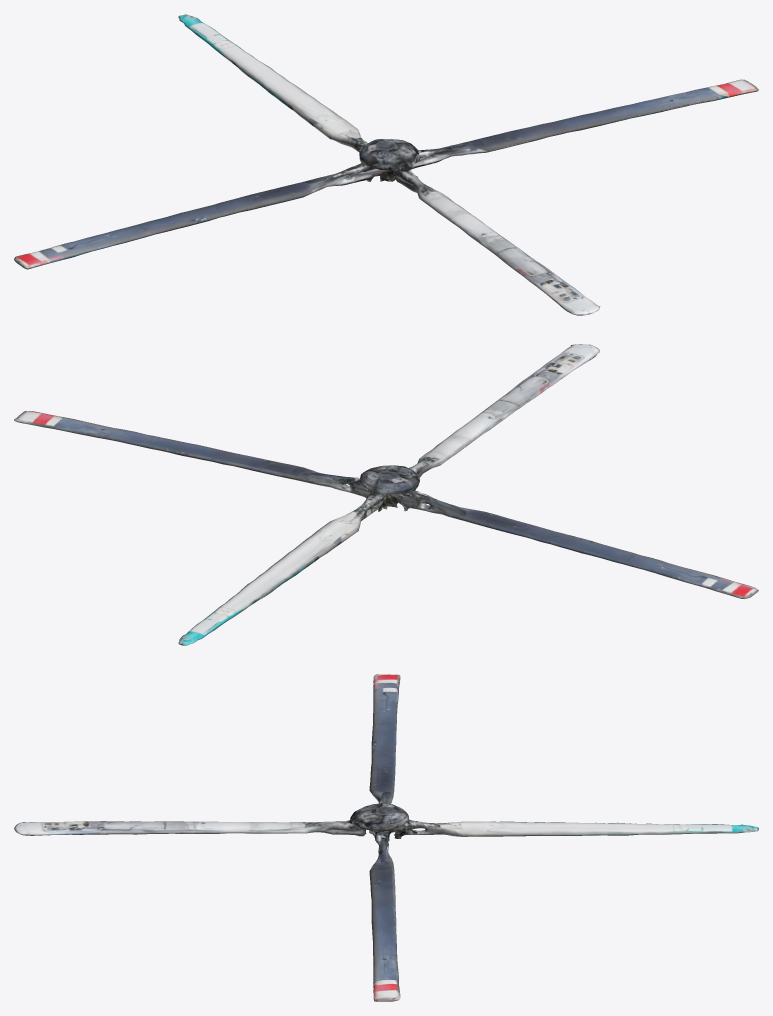
File: medic_chopper_blades.glb
3 views of the same model, one above another, from view 1: azimuth 30°, elevation 25°; view 2: azimuth 150°, elevation 25°; view 3: azimuth 270°, elevation 25° (orthographic). The views are drawn at different scales.
Visible parts, largest first — view 1: Mesh_0.001; view 2: Mesh_0.001; view 3: Mesh_0.001.
Part boxes in pixels (x1,y1,x2,y2): Mesh_0.001: (14,14,758,315); Mesh_0.001: (14,344,758,645); Mesh_0.001: (14,674,758,1001).
Size of the model in its own units: 10.8 by 0.4605 by 10.41.
Materials: 1 (1 with a texture image).
